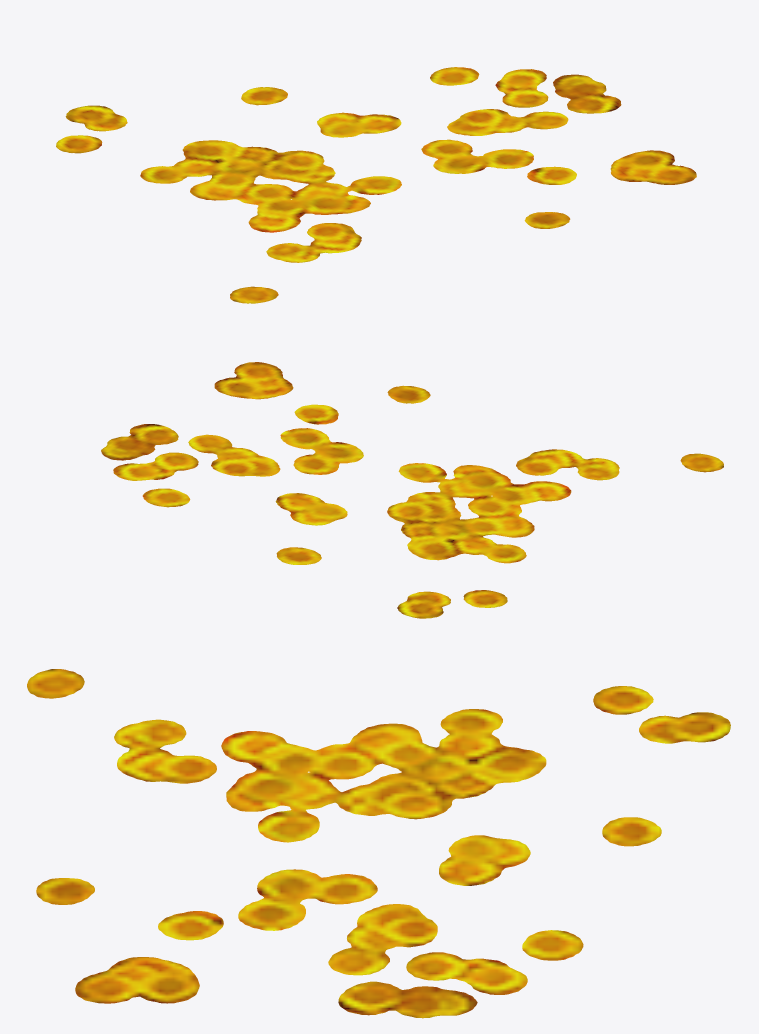
Rendered from gold_6.FBX.
3 renders of one model, top to bottom at view 1: azimuth 30°, elevation 25°; view 2: azimuth 150°, elevation 25°; view 3: azimuth 270°, elevation 25°, orthographic. The views are drawn at different scales.
Parts seen in each view (by area): view 1: Plane005; view 2: Plane005; view 3: Plane005.
Boxes of the visible parts, box(x1,y1,x2,y2) form: Plane005: box(56, 67, 696, 303); Plane005: box(101, 362, 723, 618); Plane005: box(27, 669, 730, 1018).
Size of the model in its own units: 72.04 by 3.82e-15 by 62.43.
